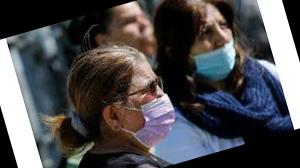mask_weared_incorrect: (193, 17, 248, 77)
with_mask: (130, 73, 191, 149)
without_mask: (114, 6, 161, 57)
